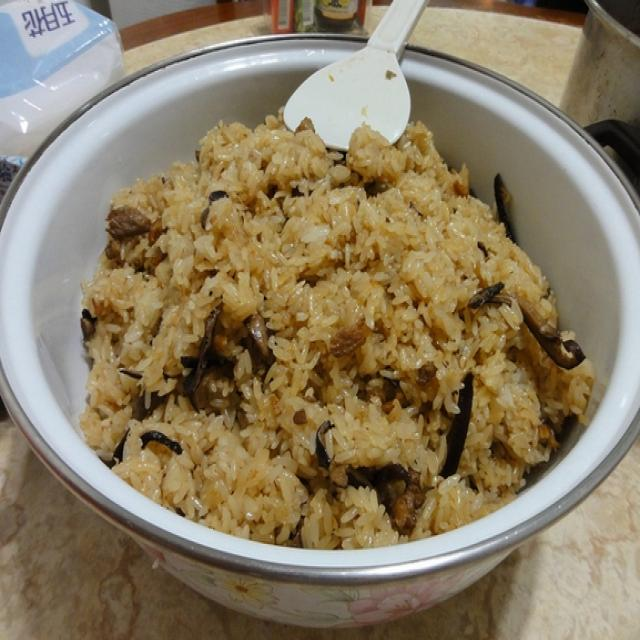米饭主食: (33, 40, 611, 584)
